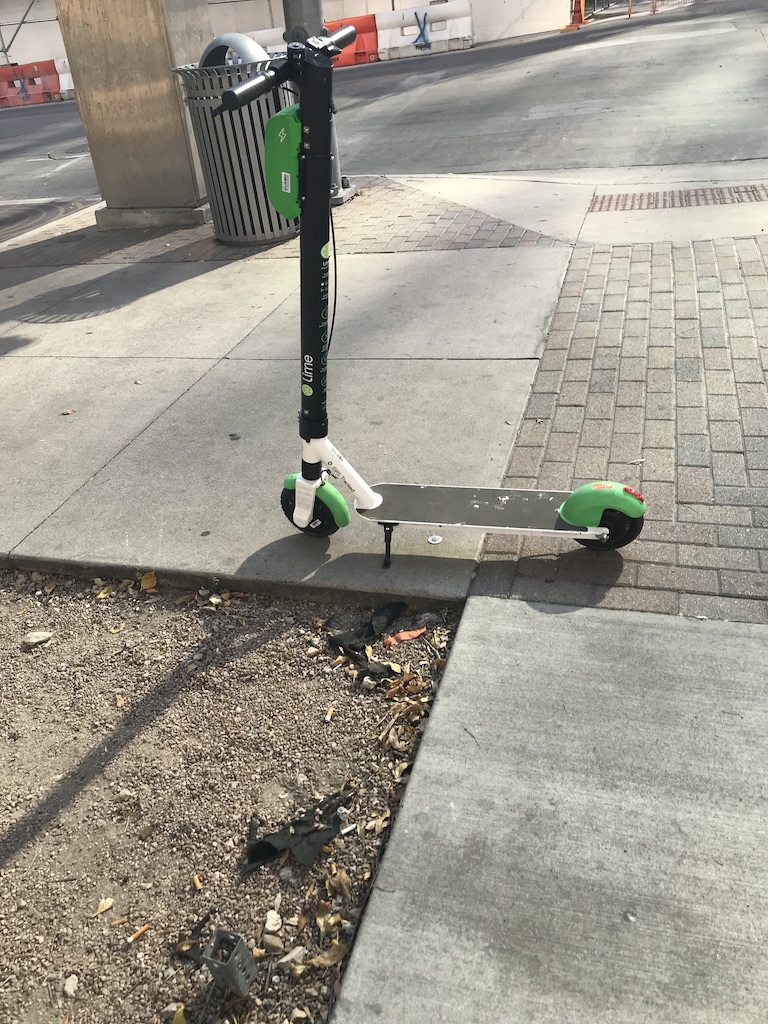scooter: (208, 24, 650, 553)
